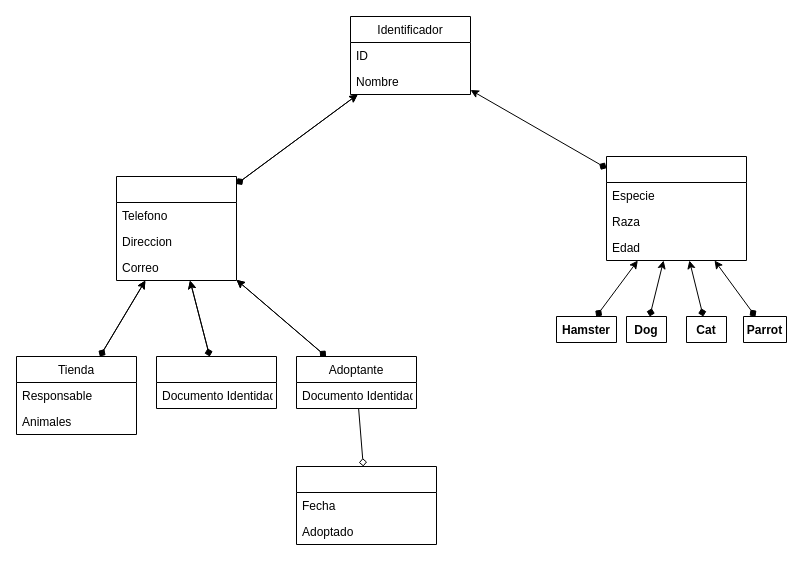
The diagram is 803 pixels wide and 561 high, and some of its shapes have lost their labels. The shapes that lost their labels are listed below. From the top down, each one's box as (x1, y1, x2, y2) in pixels, then its label:
(116, 176, 236, 280): BasicInfo
(606, 156, 746, 260): Animal
(156, 356, 276, 408): Donante
(296, 466, 436, 544): Adopcion
